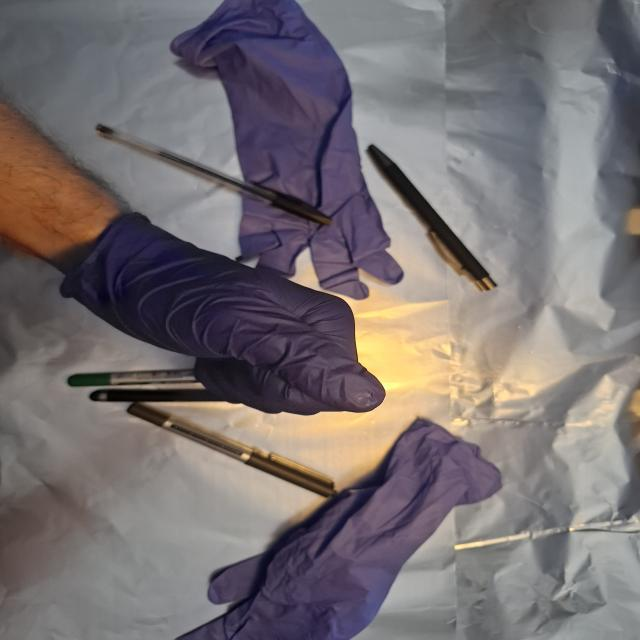glove_on: (66, 212, 391, 419)
